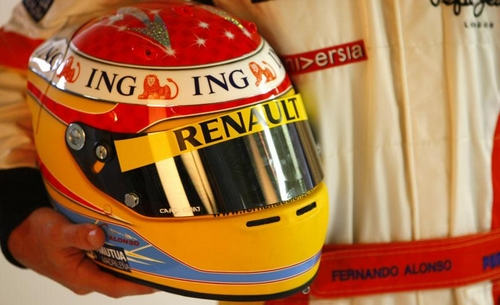helmet: (19, 7, 340, 285)
